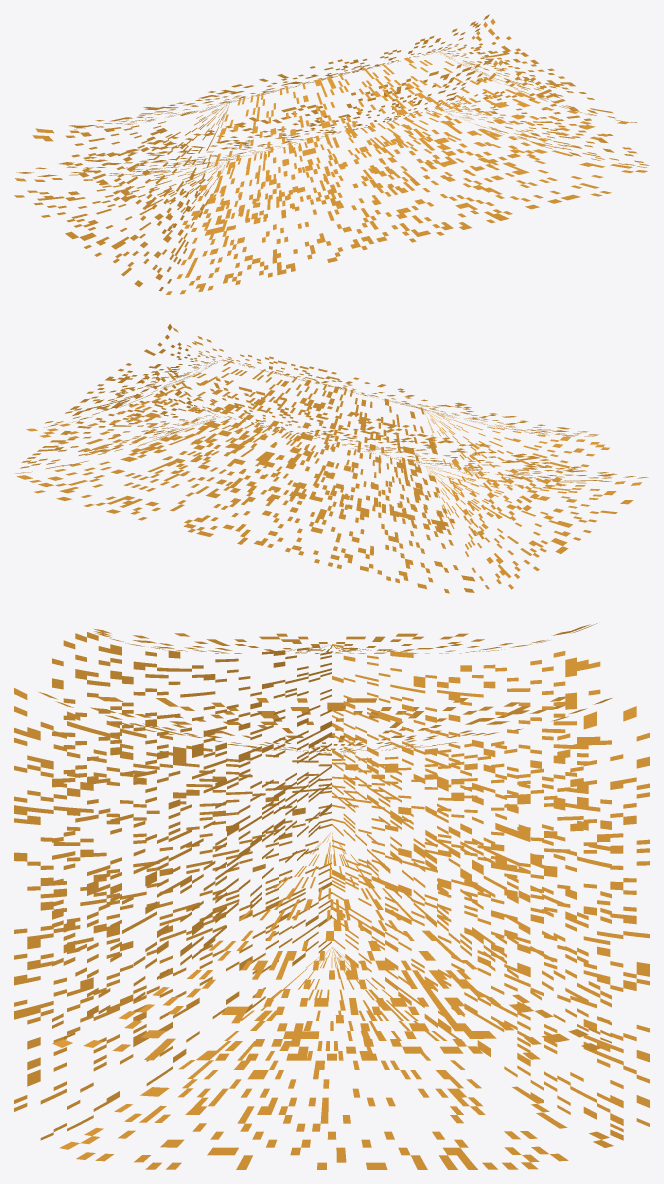
The model's file is SM_15_tile0.fbx.
3 views of the same model, one above another, from view 1: azimuth 30°, elevation 25°; view 2: azimuth 150°, elevation 25°; view 3: azimuth 270°, elevation 25° (orthographic). The views are drawn at different scales.
Parts seen in each view (by area): view 1: tile0; view 2: tile0; view 3: tile0.
Boxes of the visible parts, x1,y1,x2,y2 form: tile0: (14,14,649,294); tile0: (15,324,648,593); tile0: (14,623,649,1169).
Size of the model in its own units: 5300 by 3020 by 1030.
